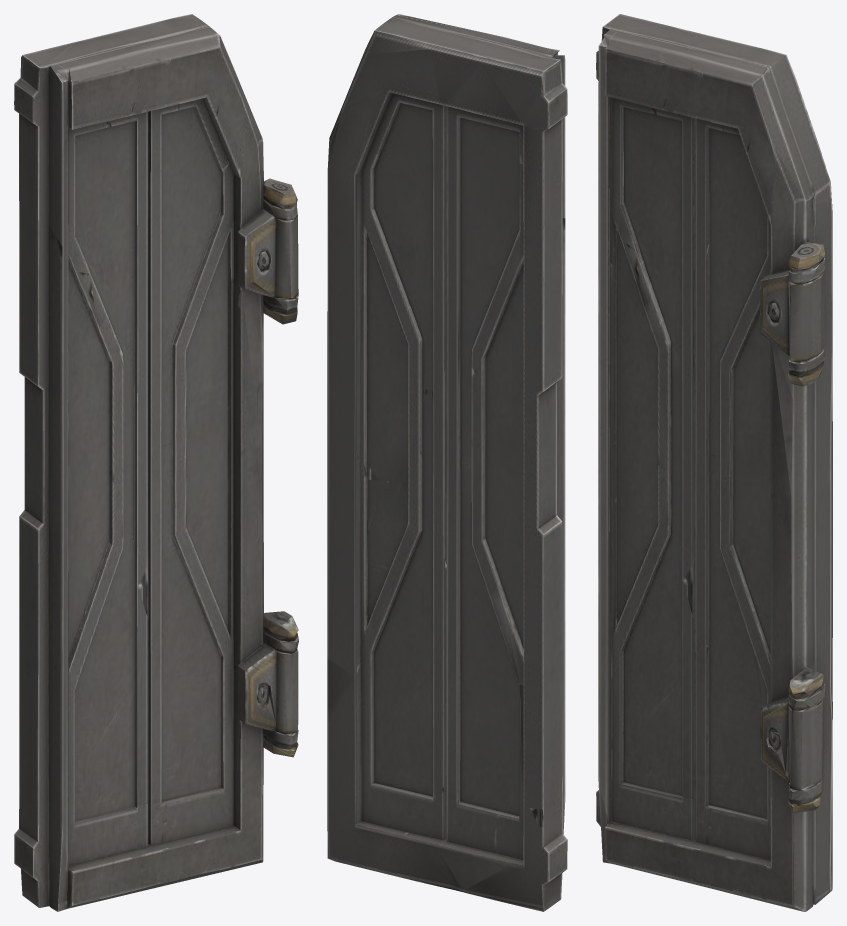
File: imperial_city_wall_tower__entrance_door_right.glb
3 views of the same model, side by side, from view 1: azimuth 30°, elevation 25°; view 2: azimuth 150°, elevation 25°; view 3: azimuth 330°, elevation 25° (orthographic).
Parts seen in each view (by area): view 1: mesh_node; view 2: mesh_node; view 3: mesh_node.
Boxes of the visible parts, left/top/right/bottom form: mesh_node: left=14, top=14, right=298, bottom=911; mesh_node: left=327, top=14, right=567, bottom=911; mesh_node: left=596, top=14, right=832, bottom=911.
Bounding box in the file's own units: 0.6706 × 2.22 × 0.2408.
1 material, 1 textured.
